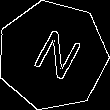N_SW: (23, 24, 83, 87)
